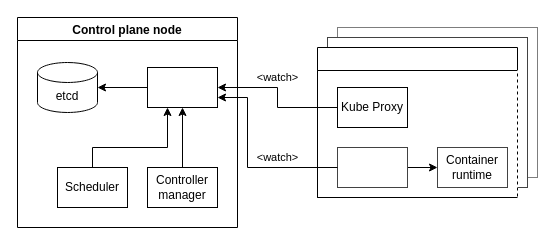
Image size: 555x245. Some labels were removed from this diagram. The centre of each missing label's shape, as x and y in pixels:
API Server: (x=182, y=87)
Compute node: (x=417, y=122)
Kubelet: (x=372, y=167)
